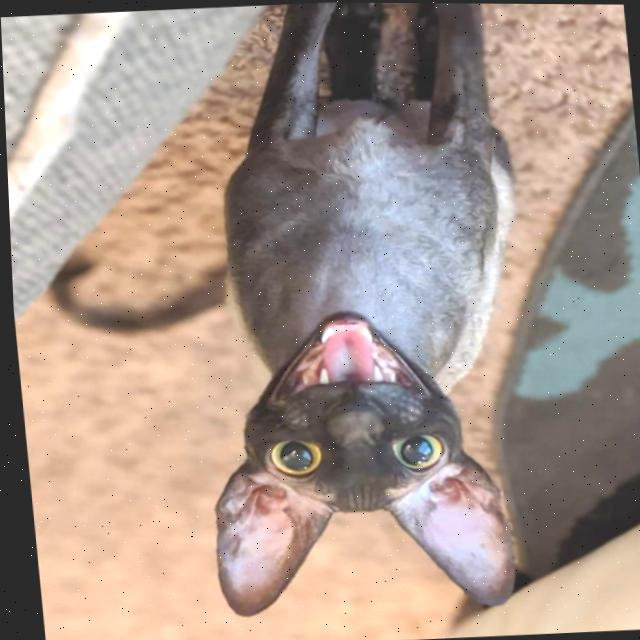Cornish Rex: (12, 0, 559, 638)
